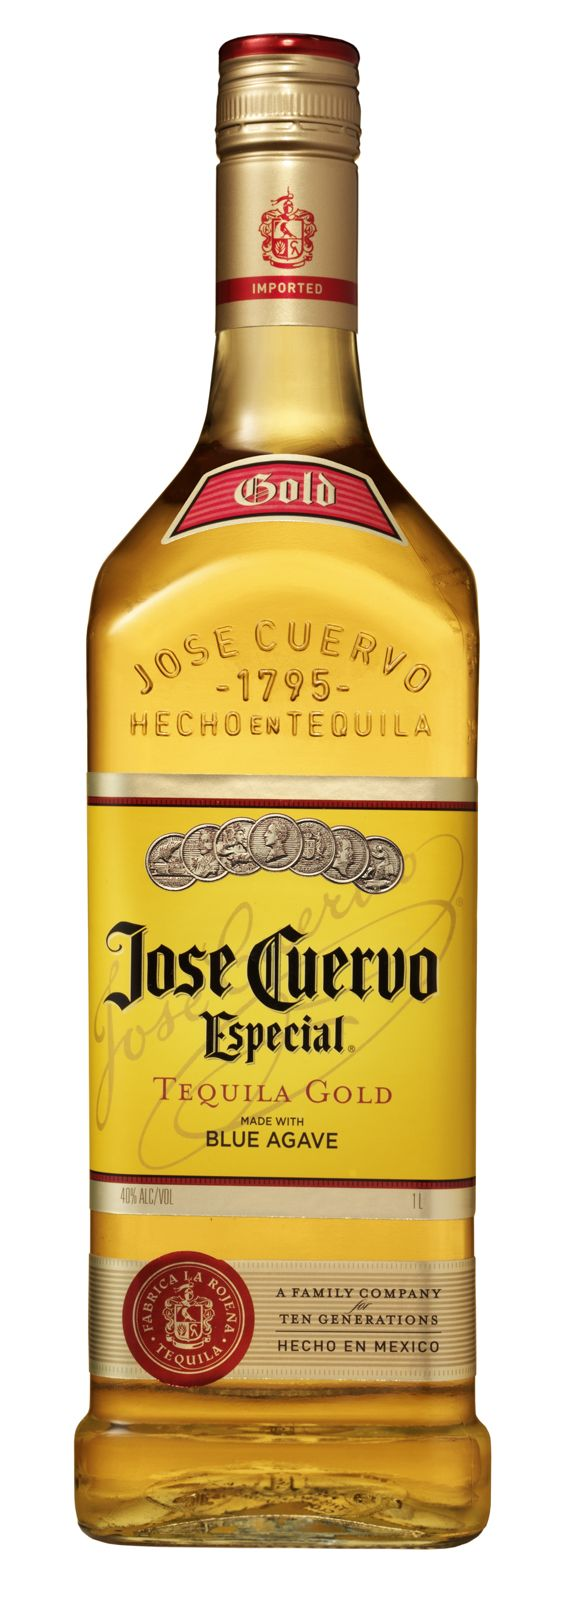bottle: (64, 20, 499, 1563)
